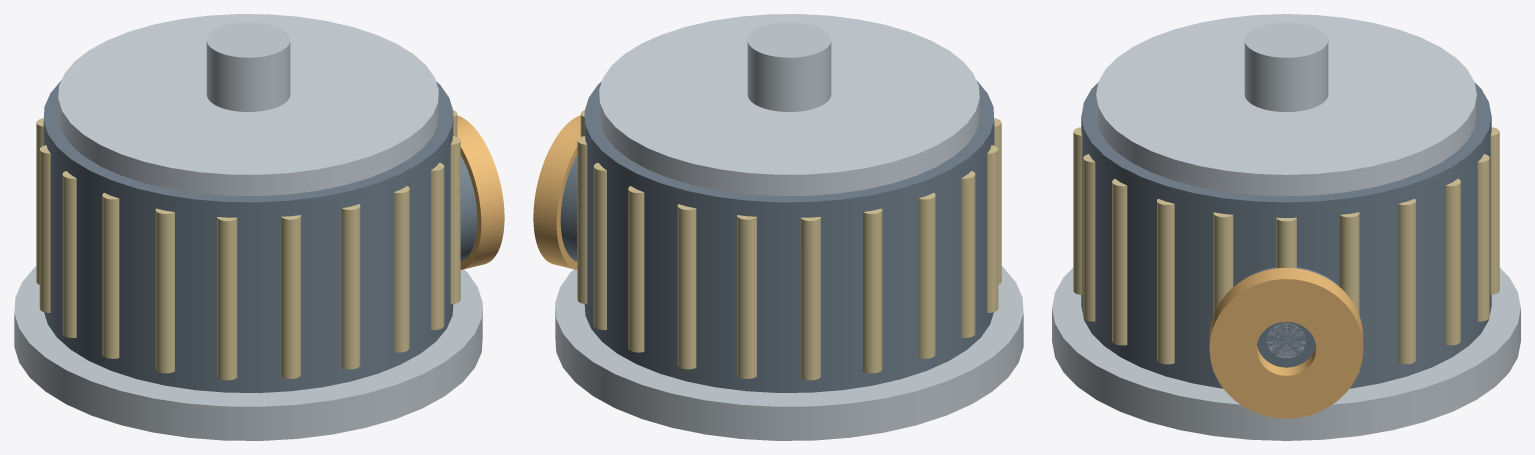
The picture shows the model from 3 angles, left to right: view 1: azimuth 30°, elevation 25°; view 2: azimuth 150°, elevation 25°; view 3: azimuth 270°, elevation 25°; orthographic projection.
Visible parts, largest first — view 1: M3/0000_stator, M3/0002_rotor, M3/0001_mount, M3/0003_shaft, M3/0025_isolator_ring, M3/0017_stator_detail, M3/0016_stator_detail, M3/0019_stator_detail, M3/0018_stator_detail, M3/0015_stator_detail, M3/0020_stator_detail, M3/0014_stator_detail (+5 smaller); view 2: M3/0000_stator, M3/0002_rotor, M3/0001_mount, M3/0003_shaft, M3/0025_isolator_ring, M3/0011_stator_detail, M3/0012_stator_detail, M3/0009_stator_detail, M3/0010_stator_detail, M3/0013_stator_detail, M3/0008_stator_detail, M3/0014_stator_detail (+5 smaller); view 3: M3/0002_rotor, M3/0000_stator, M3/0001_mount, M3/0025_isolator_ring, M3/0003_shaft, M3/0006_stator_detail, M3/0022_stator_detail, M3/0007_stator_detail, M3/0021_stator_detail, M3/0024_isolator_seat, M3/0008_stator_detail, M3/0020_stator_detail (+6 smaller).
Part boxes in pixels (<box>): M3/0000_stator: <box>43,80,453,392</box>; M3/0002_rotor: <box>58,14,438,195</box>; M3/0001_mount: <box>14,266,482,440</box>; M3/0003_shaft: <box>206,22,290,111</box>; M3/0025_isolator_ring: <box>457,115,504,269</box>; M3/0017_stator_detail: <box>217,217,237,380</box>; M3/0016_stator_detail: <box>155,208,174,373</box>; M3/0019_stator_detail: <box>341,204,360,369</box>; M3/0018_stator_detail: <box>281,215,300,378</box>; M3/0015_stator_detail: <box>102,193,119,358</box>; M3/0020_stator_detail: <box>393,186,409,352</box>; M3/0014_stator_detail: <box>62,171,76,337</box>; M3/0000_stator: <box>584,80,994,392</box>; M3/0002_rotor: <box>599,14,979,195</box>; M3/0001_mount: <box>555,266,1023,440</box>; M3/0003_shaft: <box>747,22,831,111</box>; M3/0025_isolator_ring: <box>533,115,580,269</box>; M3/0011_stator_detail: <box>800,217,820,380</box>; M3/0012_stator_detail: <box>863,208,882,373</box>; M3/0009_stator_detail: <box>677,204,696,369</box>; M3/0010_stator_detail: <box>737,215,756,378</box>; M3/0013_stator_detail: <box>918,193,935,358</box>; M3/0008_stator_detail: <box>628,186,644,352</box>; M3/0014_stator_detail: <box>961,171,975,337</box>; M3/0002_rotor: <box>1096,14,1476,196</box>; M3/0000_stator: <box>1081,82,1491,388</box>; M3/0001_mount: <box>1052,267,1520,440</box>; M3/0025_isolator_ring: <box>1209,267,1363,418</box>; M3/0003_shaft: <box>1244,22,1328,111</box>; M3/0006_stator_detail: <box>1398,199,1415,364</box>; M3/0022_stator_detail: <box>1157,199,1174,364</box>; M3/0007_stator_detail: <box>1445,179,1460,345</box>; M3/0021_stator_detail: <box>1112,179,1127,345</box>; M3/0024_isolator_seat: <box>1233,267,1339,367</box>; M3/0008_stator_detail: <box>1477,154,1489,321</box>; M3/0020_stator_detail: <box>1083,154,1095,321</box>.
Bounding box in the file's own units: 0.0696 × 0.0477 × 0.0672.
